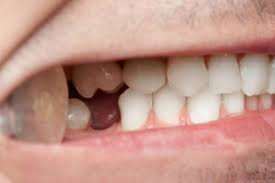normal: (166, 58, 209, 97), (124, 62, 166, 94), (120, 89, 152, 129), (151, 86, 184, 124), (210, 56, 241, 96), (239, 55, 266, 97), (186, 91, 220, 122), (220, 93, 245, 116), (246, 96, 258, 113), (259, 94, 273, 107)
rough: (77, 64, 121, 96), (85, 95, 121, 128), (69, 100, 90, 133)
